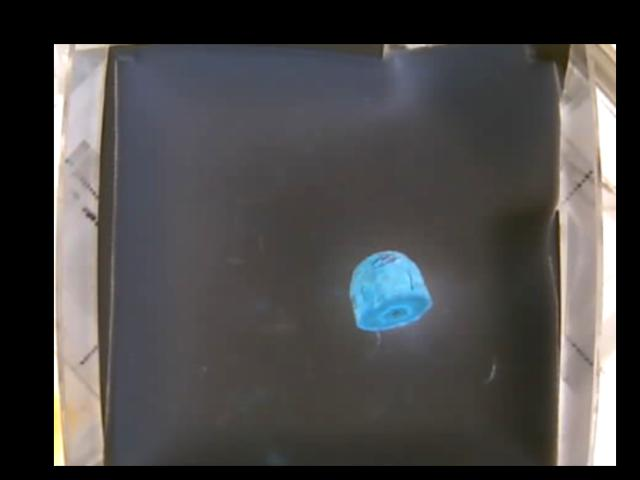Carrot: (350, 248, 429, 332)
